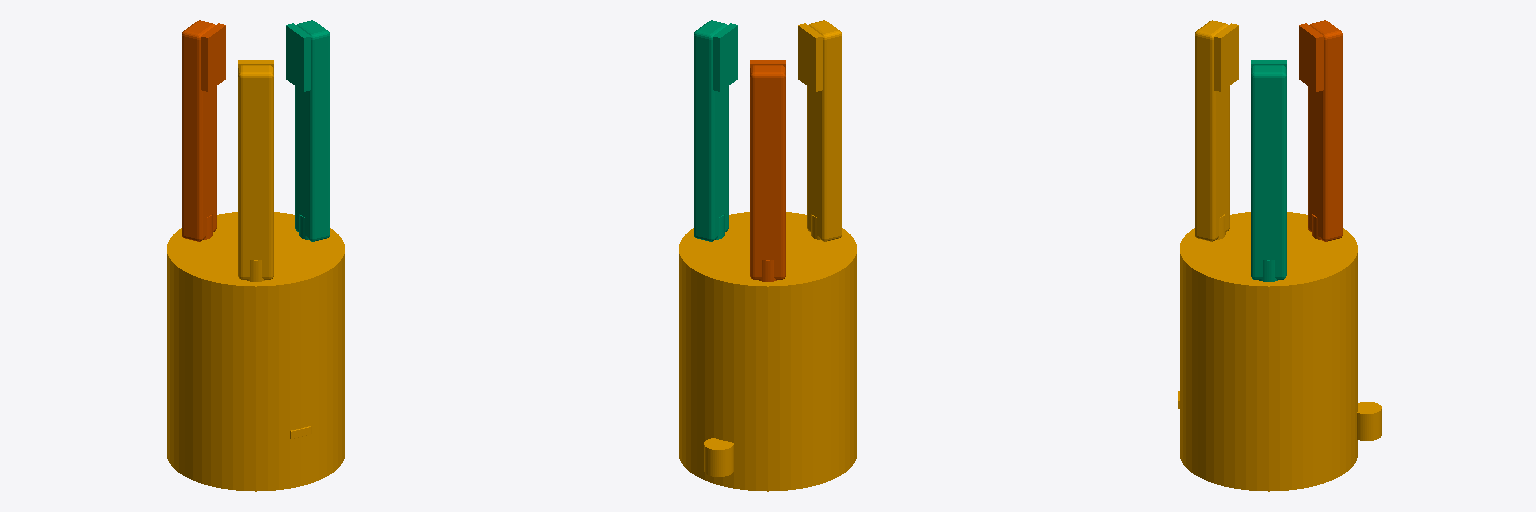
The robot description file, URDF, robot "aspina_arh350a":
<?xml version="1.0"?>
<robot name="aspina_arh350a">
<link name="mount"><visual ><geometry ><mesh filename="../meshes/mount.obj"/></geometry></visual><collision ><origin xyz="0 0 0.038" rpy="0 0 0"/><geometry ><cylinder radius="0.03" length="0.076"/></geometry></collision></link>
<link name="finger_1_origin"></link>
<link name="finger_1"><visual ><geometry ><mesh filename="../meshes/finger_1.obj"/></geometry></visual><collision ><origin xyz="0 0 0.0385" rpy="0 0 0"/><geometry ><box size="0.008 0.012 0.077"/></geometry></collision><collision ><origin xyz="-0.0055 0 0.067" rpy="0 0 0"/><geometry ><box size="0.003 0.012 0.02"/></geometry></collision></link>
<link name="finger_1_tip"></link>
<link name="finger_2_origin"></link>
<link name="finger_2"><visual ><geometry ><mesh filename="../meshes/finger_2.obj"/></geometry></visual><collision ><origin xyz="0 0 0.0385" rpy="0 0 0"/><geometry ><box size="0.008 0.012 0.077"/></geometry></collision><collision ><origin xyz="-0.0055 0 0.067" rpy="0 0 0"/><geometry ><box size="0.003 0.012 0.02"/></geometry></collision></link>
<link name="finger_2_tip"></link>
<link name="finger_3_origin"></link>
<link name="finger_3"><visual ><geometry ><mesh filename="../meshes/finger_3.obj"/></geometry></visual><collision ><origin xyz="0 0 0.0385" rpy="0 0 0"/><geometry ><box size="0.008 0.012 0.077"/></geometry></collision><collision ><origin xyz="-0.0055 0 0.067" rpy="0 0 0"/><geometry ><box size="0.003 0.012 0.02"/></geometry></collision></link>
<link name="finger_3_tip"></link>
<link name="tcp"></link>
<joint name="finger_1_origin_joint" type="fixed"><parent link="mount"/><child link="finger_1_origin"/><origin xyz="0.022 0 0.076" rpy="0 0 0"/></joint>
<joint name="finger_joint" type="revolute"><parent link="finger_1_origin"/><child link="finger_1"/><origin xyz="0 0 0" rpy="0 0 0"/><axis xyz="0 1 0"/><limit lower="0" upper="0.6981317007977318" velocity="1" effort="5"/></joint>
<joint name="finger_1_tip_joint" type="fixed"><parent link="finger_1"/><child link="finger_1_tip"/><origin xyz="-0.007 0 0.067" rpy="0 0 0"/></joint>
<joint name="finger_2_origin_joint" type="fixed"><parent link="mount"/><child link="finger_2_origin"/><origin xyz="-0.011 0.0190525588833 0.076" rpy="0 0 2.09439510239"/></joint>
<joint name="finger_2_mimic_joint" type="revolute"><parent link="finger_2_origin"/><child link="finger_2"/><origin xyz="0 0 0" rpy="0 0 0"/><axis xyz="0 1 0"/><limit lower="0" upper="0.6981317007977318" velocity="1" effort="5"/><mimic joint="finger_joint" multiplier="1" offset="0"/></joint>
<joint name="finger_2_tip_joint" type="fixed"><parent link="finger_2"/><child link="finger_2_tip"/><origin xyz="-0.007 0 0.067" rpy="0 0 0"/></joint>
<joint name="finger_3_origin_joint" type="fixed"><parent link="mount"/><child link="finger_3_origin"/><origin xyz="-0.011 -0.0190525588833 0.076" rpy="0 0 4.18879020479"/></joint>
<joint name="finger_3_mimic_joint" type="revolute"><parent link="finger_3_origin"/><child link="finger_3"/><origin xyz="0 0 0" rpy="0 0 0"/><axis xyz="0 1 0"/><limit lower="0" upper="0.6981317007977318" velocity="1" effort="5"/><mimic joint="finger_joint" multiplier="1" offset="0"/></joint>
<joint name="finger_3_tip_joint" type="fixed"><parent link="finger_3"/><child link="finger_3_tip"/><origin xyz="-0.007 0 0.067" rpy="0 0 0"/></joint>
<joint name="tcp_joint" type="fixed"><parent link="mount"/><child link="tcp"/><origin xyz="0 0 0.141" rpy="0 0 0"/></joint>
</robot>

--- Render facts (derived) ---
The picture shows the robot from 3 angles, left to right: view 1: azimuth 30°, elevation 25°; view 2: azimuth 150°, elevation 25°; view 3: azimuth 270°, elevation 25°; orthographic projection.
Model aspina_arh350a with 11 links and 10 joints (3 revolute, 7 fixed), rooted at mount, posed every joint at zero.
Links seen in each view (by area): view 1: mount, finger_1, finger_2, finger_3; view 2: mount, finger_1, finger_3, finger_2; view 3: mount, finger_2, finger_3, finger_1.
Boxes of the visible links, x1=… form: mount: x1=167, y1=212, x2=344, y2=491; finger_1: x1=286, y1=20, x2=329, y2=241; finger_2: x1=182, y1=20, x2=225, y2=241; finger_3: x1=238, y1=60, x2=273, y2=281; mount: x1=679, y1=212, x2=856, y2=491; finger_1: x1=694, y1=20, x2=737, y2=241; finger_3: x1=798, y1=20, x2=841, y2=241; finger_2: x1=750, y1=60, x2=785, y2=281; mount: x1=1178, y1=212, x2=1381, y2=491; finger_2: x1=1299, y1=20, x2=1342, y2=241; finger_3: x1=1195, y1=20, x2=1238, y2=241; finger_1: x1=1251, y1=60, x2=1286, y2=281.
Size in the robot's own frame: 0.06 by 0.0685 by 0.153 metres.
4 mesh visuals loaded from 4 distinct referenced files (4 OBJ).
